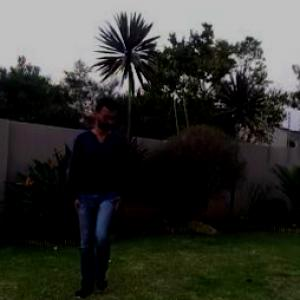follow: (57, 76, 138, 298)
